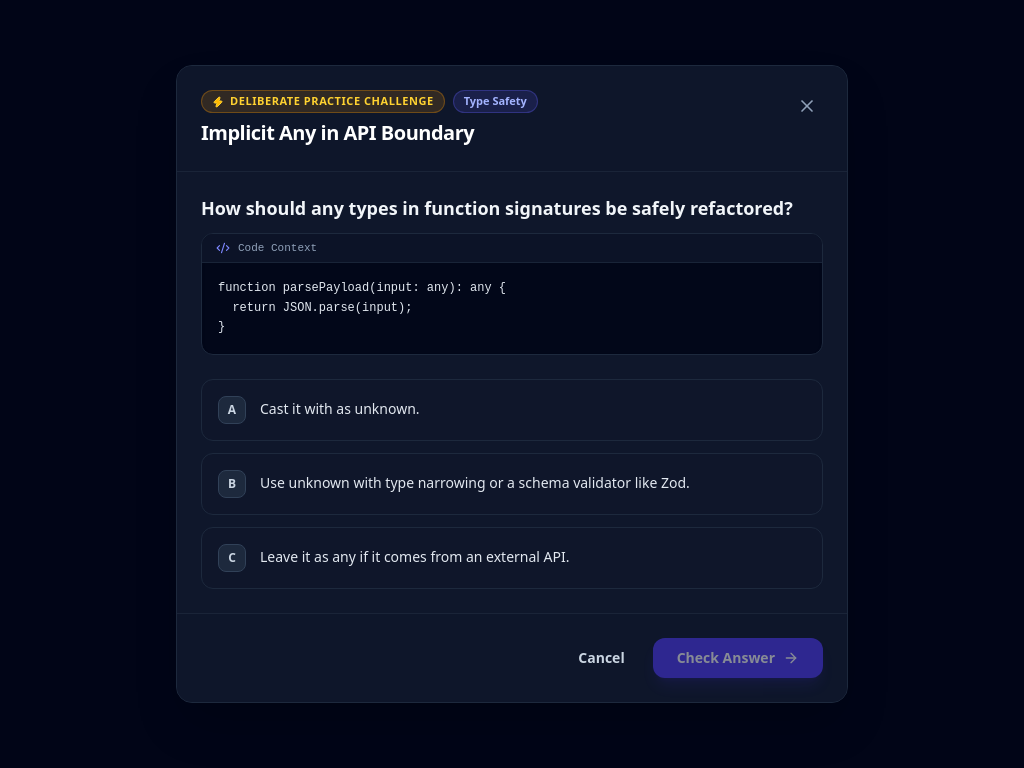
Test case: ChallengeModal component › disables all answer choices once an answer has been submitted
Click the text "Use unknown with type narrowing or a schema validator like Zod." at (475, 482), box [260, 473, 690, 492]
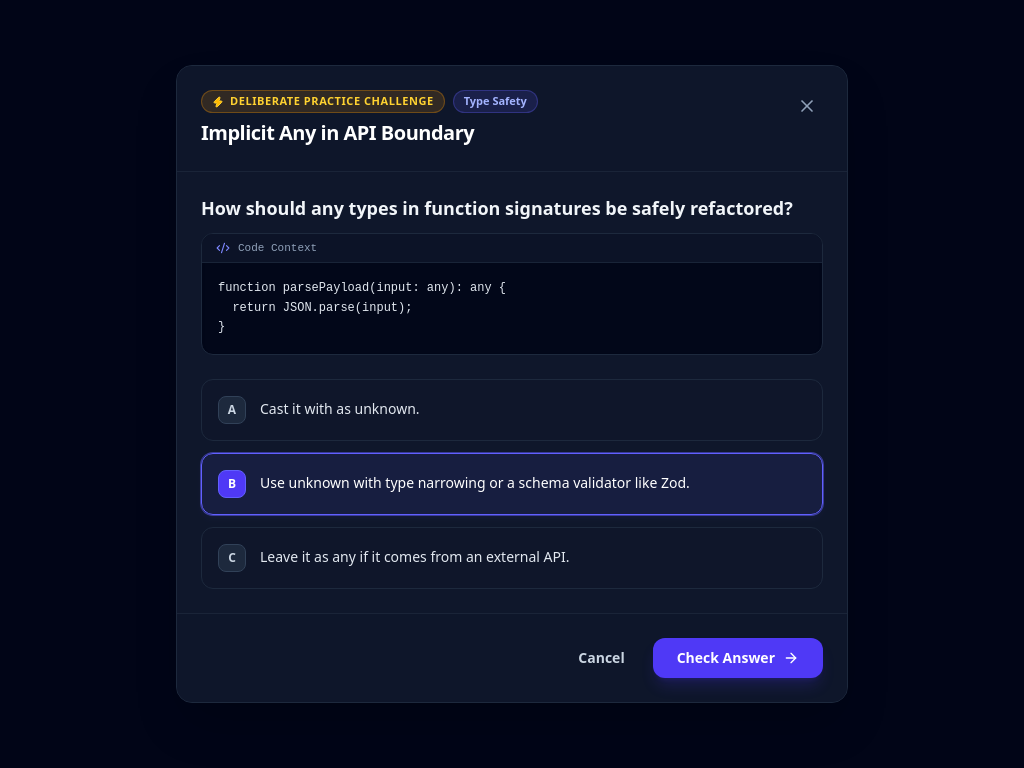
Click the button "Check Answer" at (738, 658), box [653, 638, 823, 678]
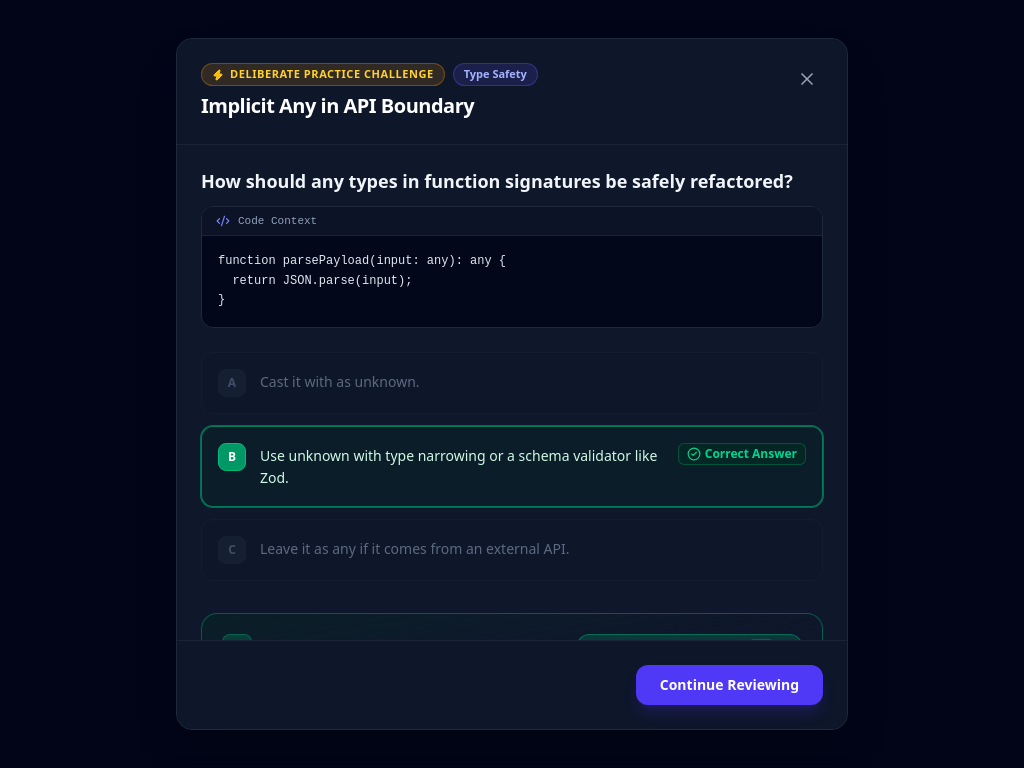
Expected: the button "A Cast it with as unknown." is disabled, [201, 352, 823, 414]
Expected: the 3rd button is disabled, [201, 426, 823, 507]
Expected: the button "C Leave it as any if it comes from an external API." is disabled, [201, 519, 823, 581]
